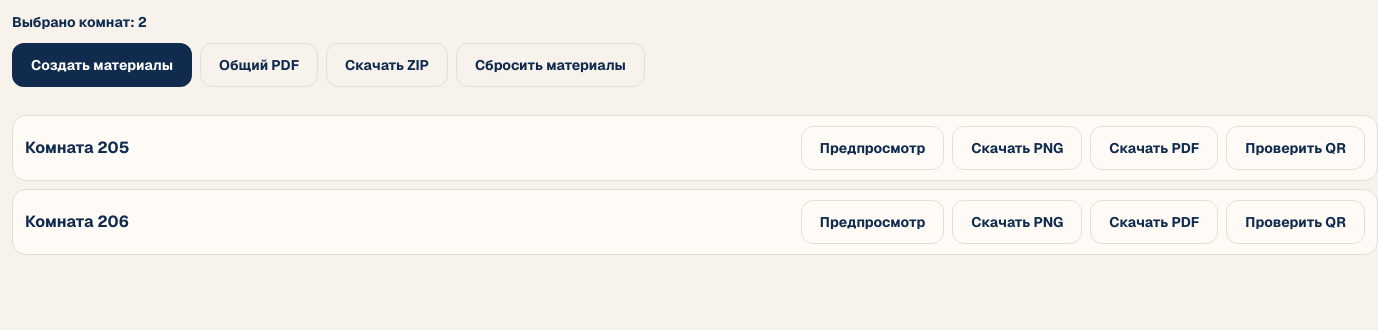
Test: AssetGenerator › names colliding file names when the ZIP cannot be built
This screenshot has width=1378, height=330.
Click the button "Скачать ZIP" at (387, 65), box [326,43,448,87]
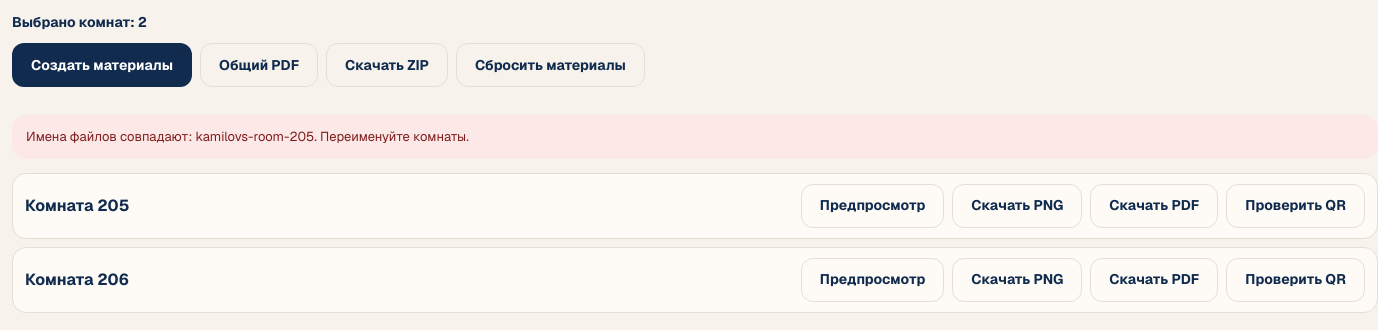
Expected: the message reads "Имена файлов совпадают: kamilovs-room-205. Переименуйте комнаты.", [26,128,469,145]
